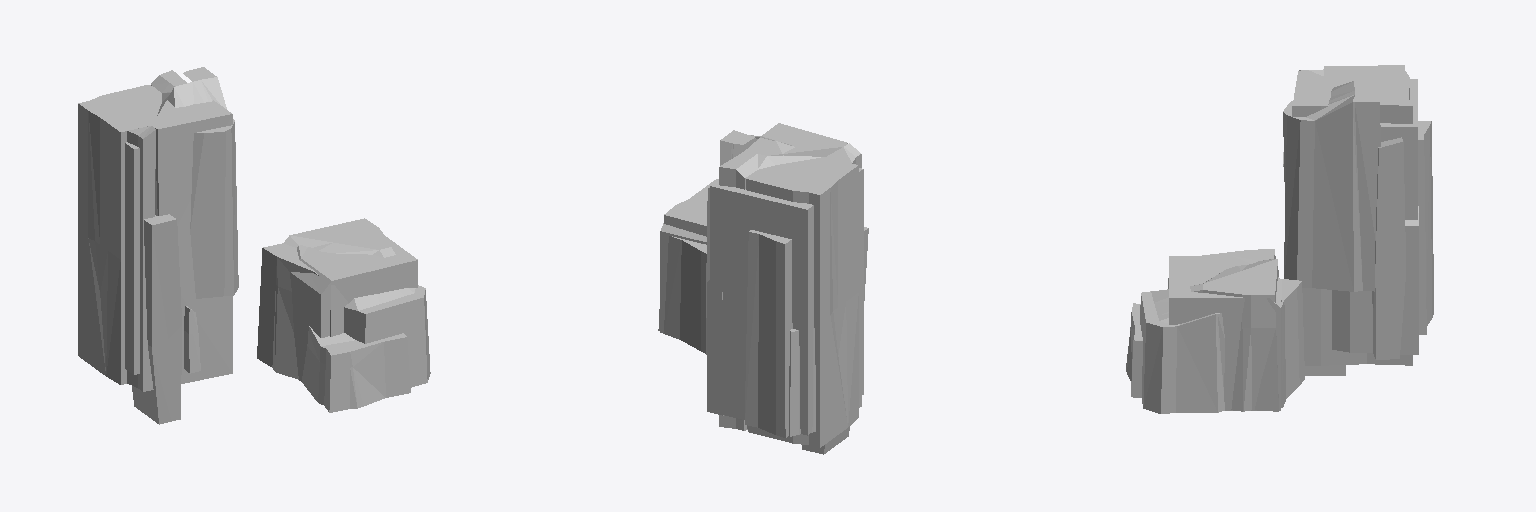
File: cliff_1010_1000.obj
3 views of the same model, side by side, from view 1: azimuth 30°, elevation 25°; view 2: azimuth 150°, elevation 25°; view 3: azimuth 270°, elevation 25° (orthographic).
Visible parts, largest first — view 1: tile_1010_1000; view 2: tile_1010_1000; view 3: tile_1010_1000.
Boxes of the visible parts, <box> form: tile_1010_1000: <box>78,67,430,424</box>; tile_1010_1000: <box>658,123,868,454</box>; tile_1010_1000: <box>1126,65,1433,413</box>.
Bounding box in the file's own units: 2.13 × 2.71 × 2.48.